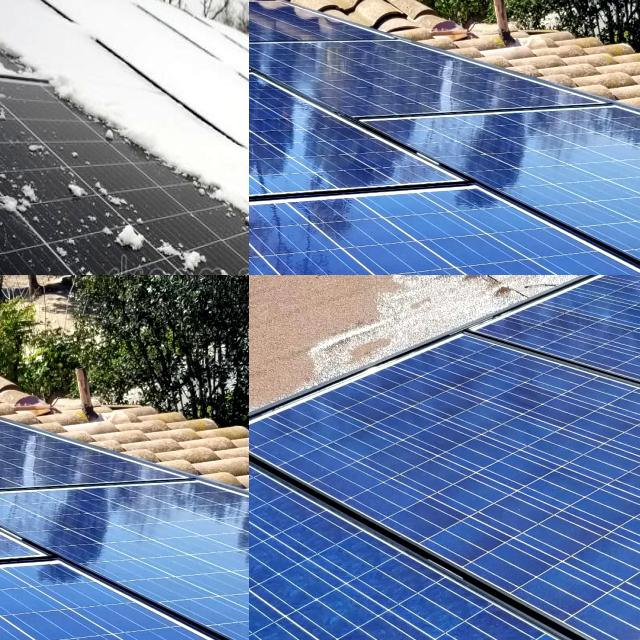crack: (452, 348, 640, 565), (397, 202, 596, 275), (42, 506, 226, 578), (459, 131, 640, 203), (0, 577, 179, 640), (249, 217, 375, 275), (249, 93, 321, 177), (0, 468, 72, 552), (249, 108, 301, 200), (0, 483, 52, 575), (249, 87, 306, 170), (342, 54, 419, 108), (0, 462, 50, 545), (0, 592, 81, 640), (249, 220, 319, 275), (0, 595, 70, 640), (0, 429, 38, 482)
panel: (70, 170, 213, 268), (155, 50, 249, 190), (35, 0, 137, 125), (0, 36, 65, 209), (147, 0, 218, 44), (0, 0, 56, 41)
